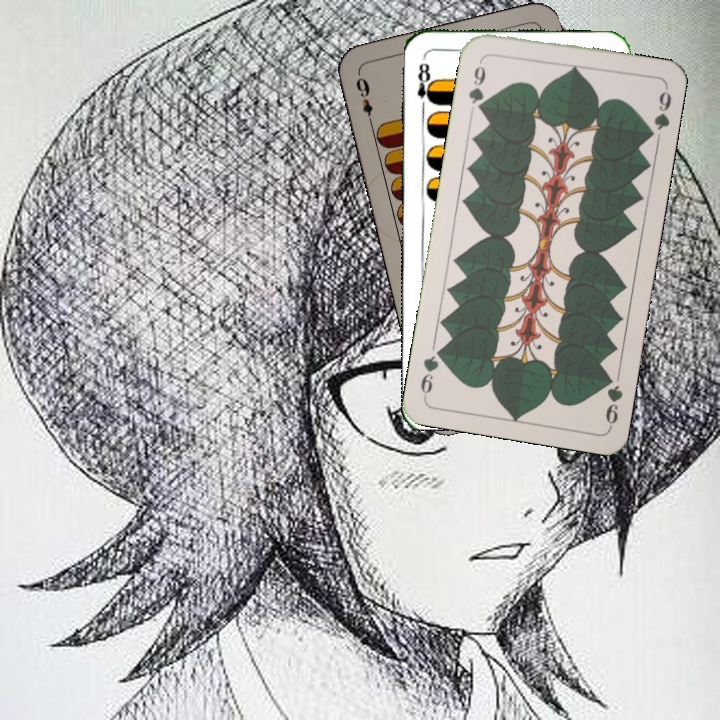E8: (413, 59, 436, 113)
E9: (351, 70, 376, 129)
G9: (600, 369, 626, 430), (464, 54, 488, 114)
